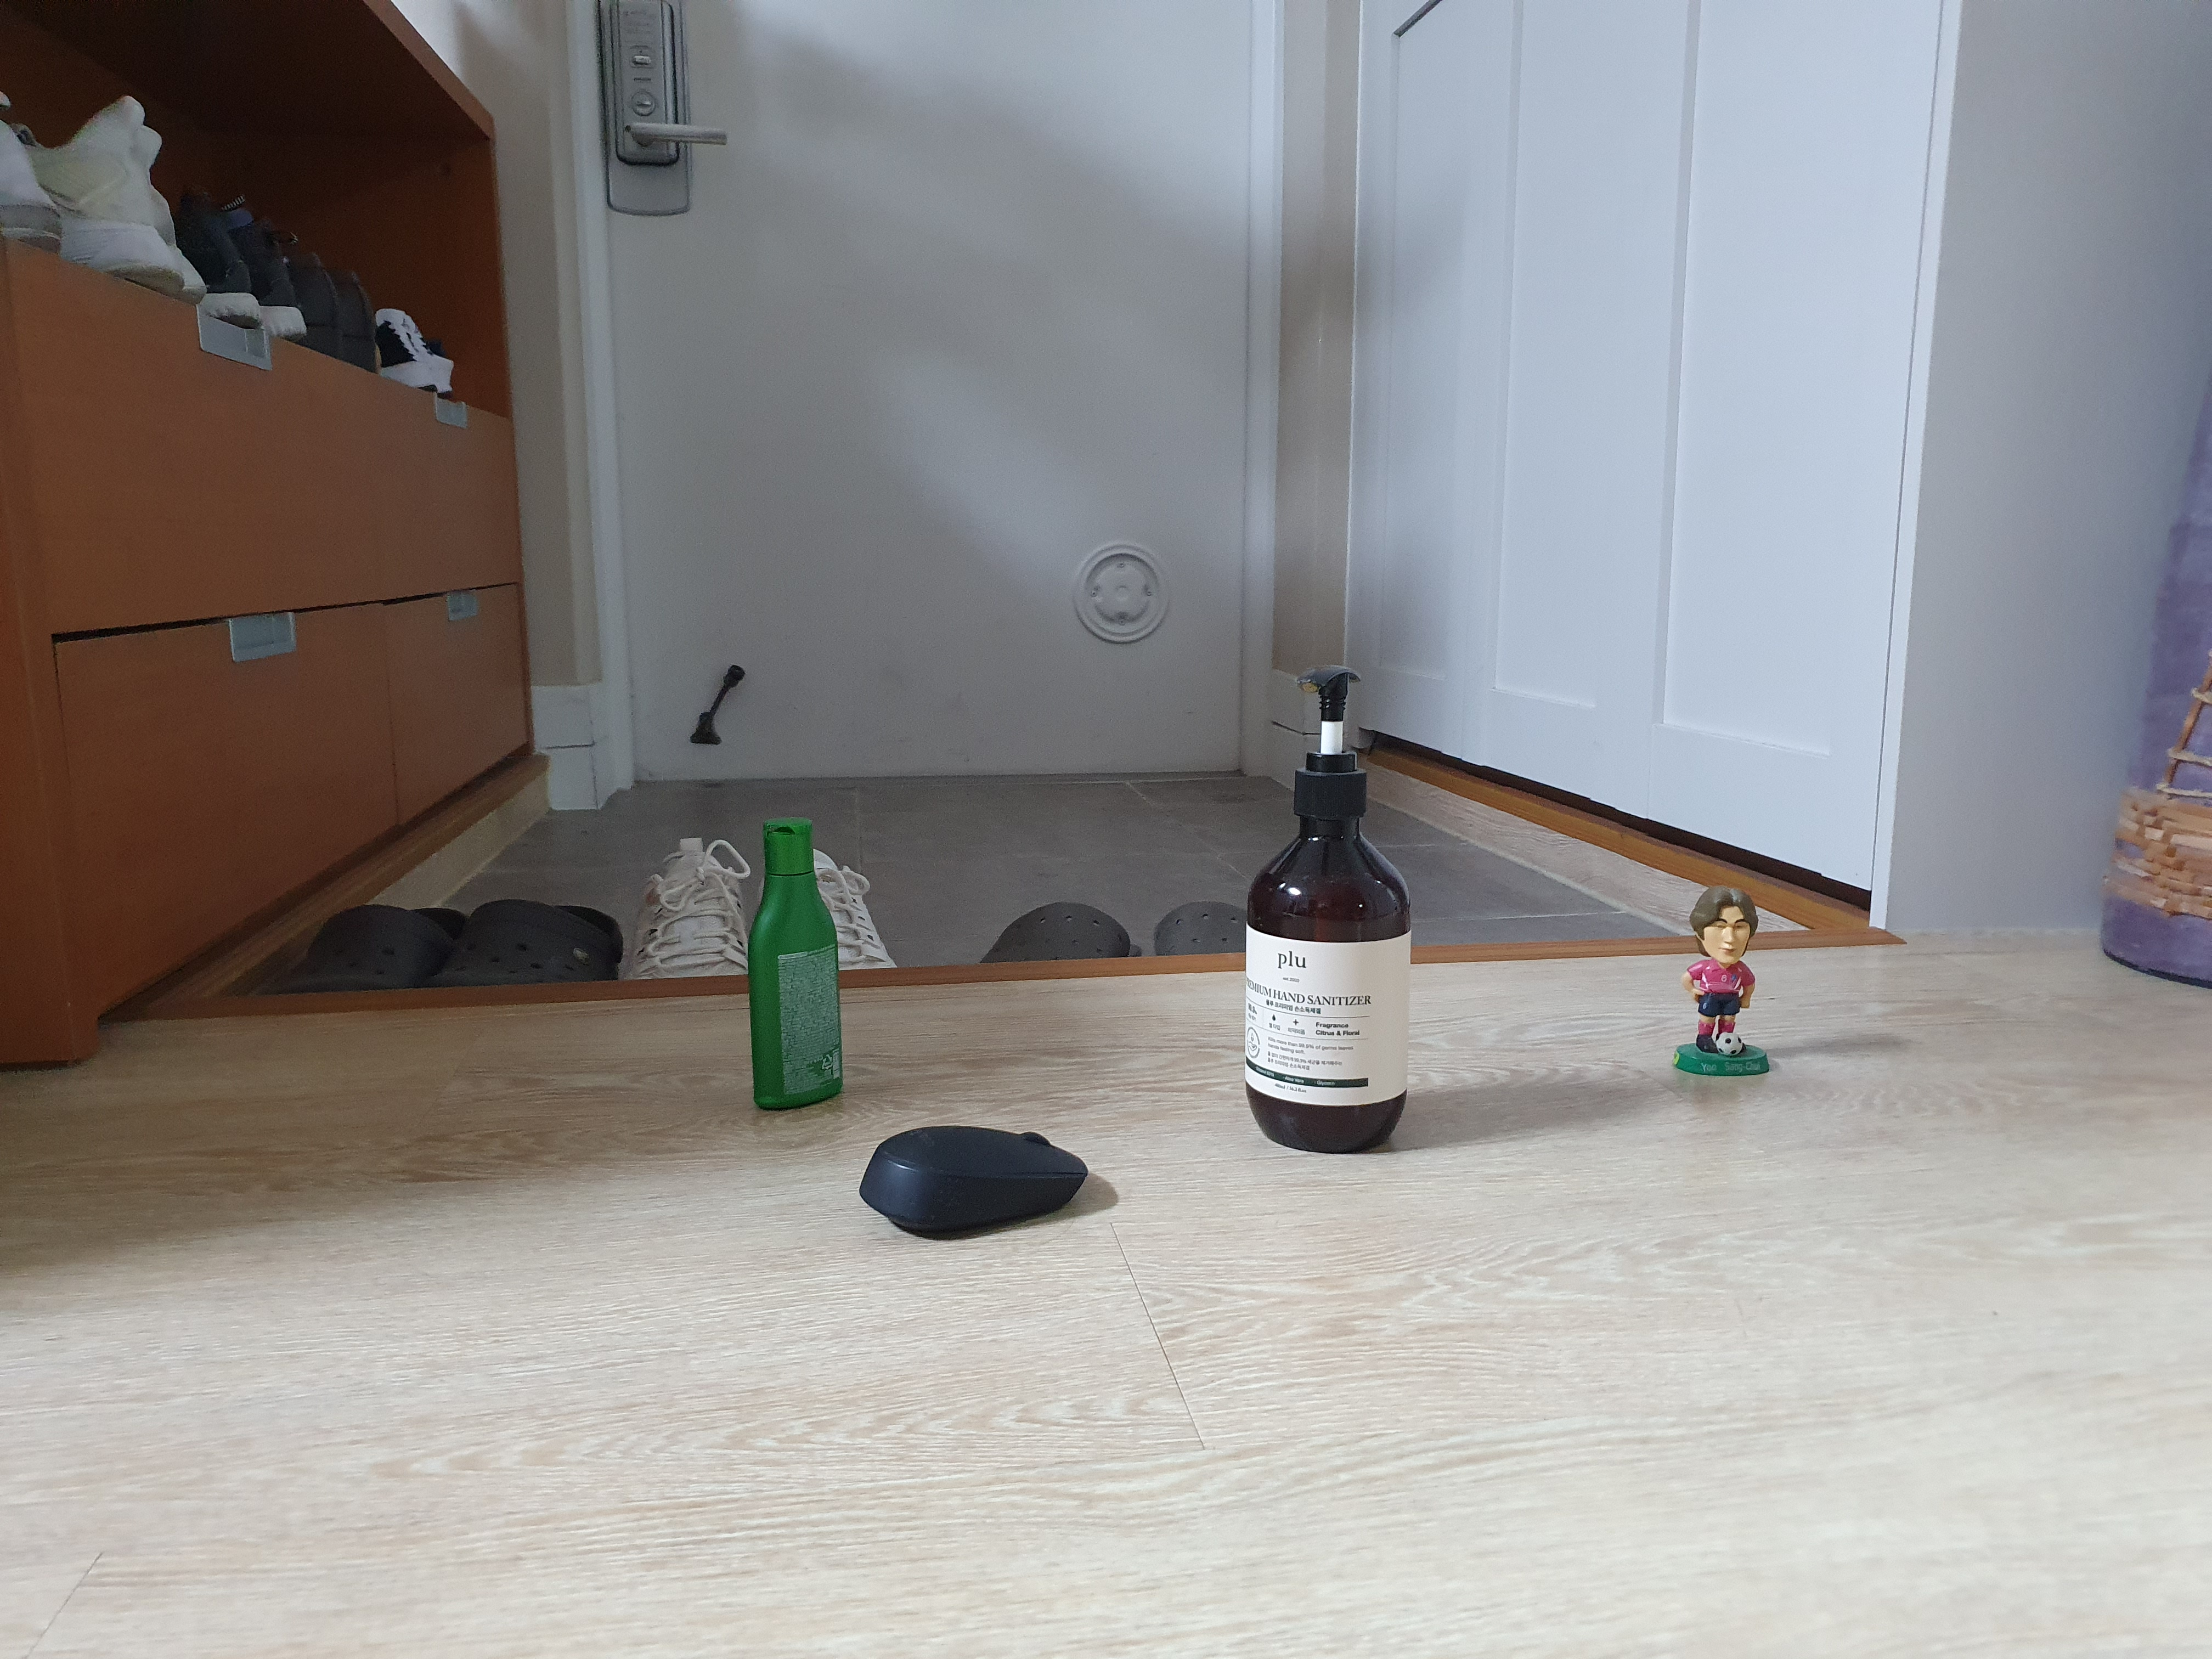bottle: (1219, 655, 1465, 1171)
mouse: (841, 1096, 1158, 1286)
shampoo: (716, 805, 887, 1136)
yoo: (1662, 878, 1778, 1084)
